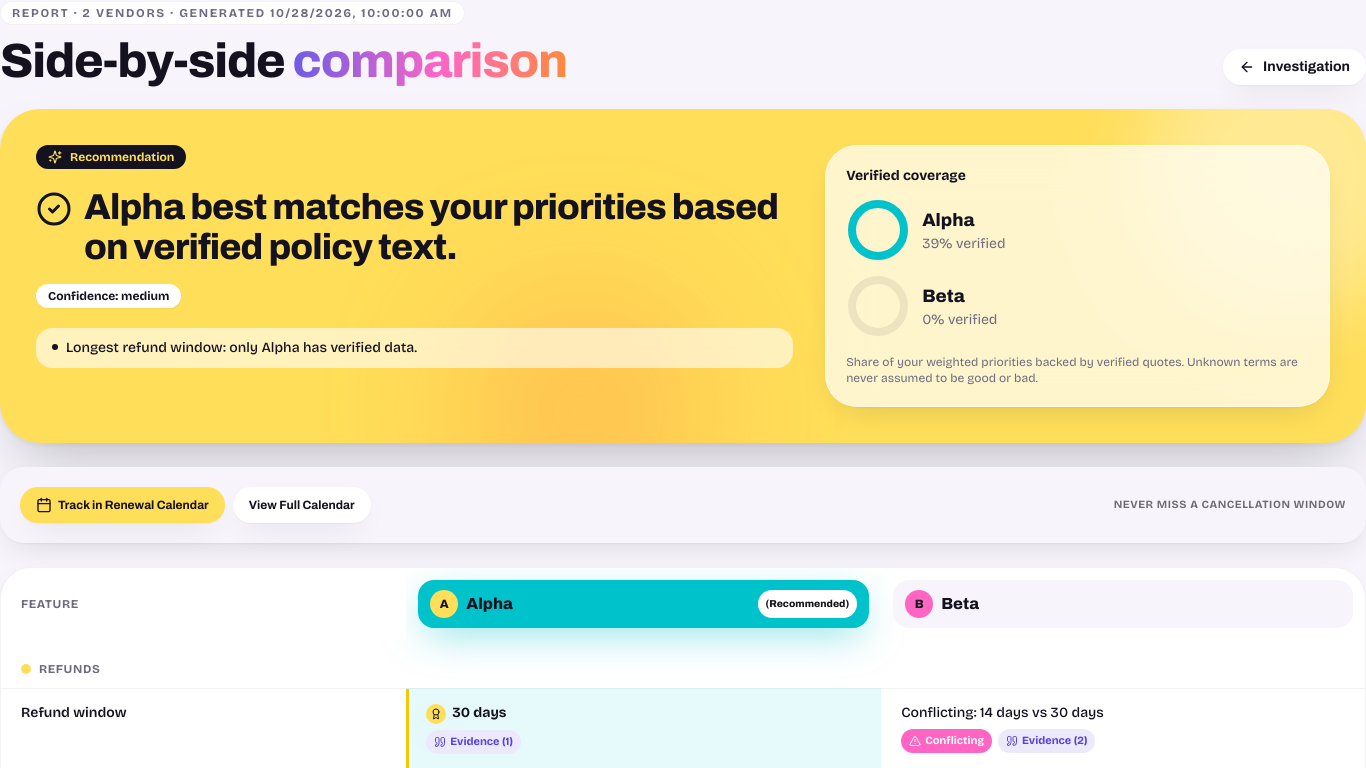
Test: ReportPage › opens evidence with source links and verification states
Step 1. Click the button with aria-label "show evidence for beta refund window" → (1047, 741), box [998,729,1095,753]
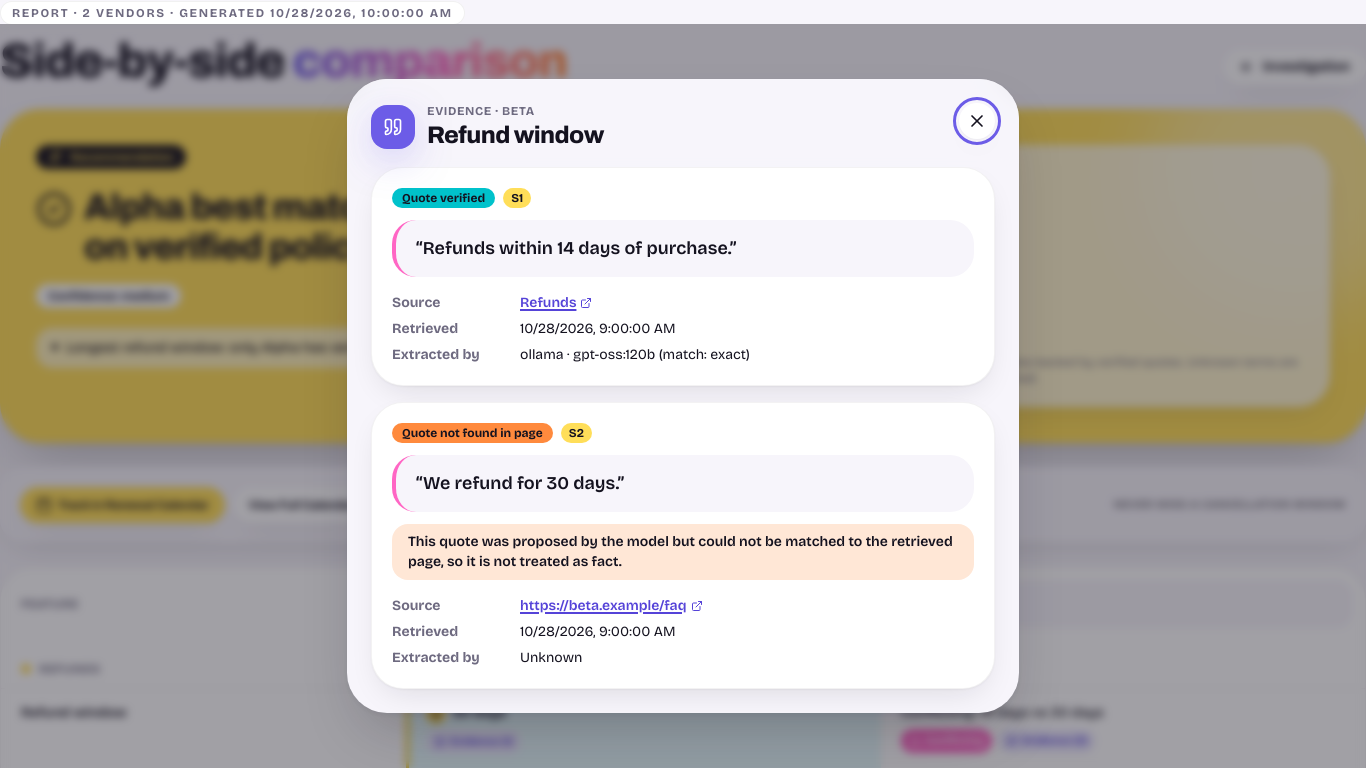
Expected: the text "“Refunds within 14 days of purchase.”" is shown, [392,220,974,277]
Expected: the text "Quote verified" is shown, [392,188,495,208]
Expected: the text "Quote not found in page" is shown, [392,423,553,443]
Step 2. Press Escape
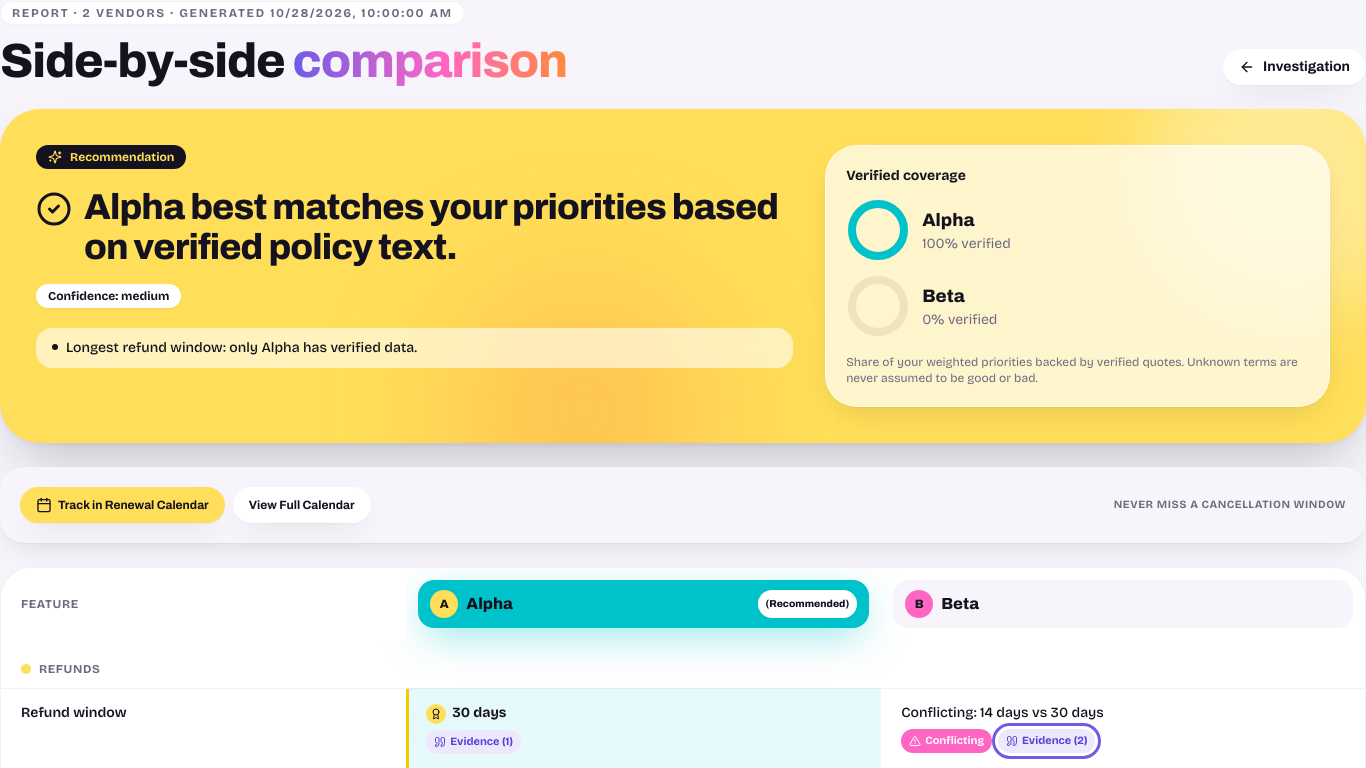
Expected: the dialog is gone
